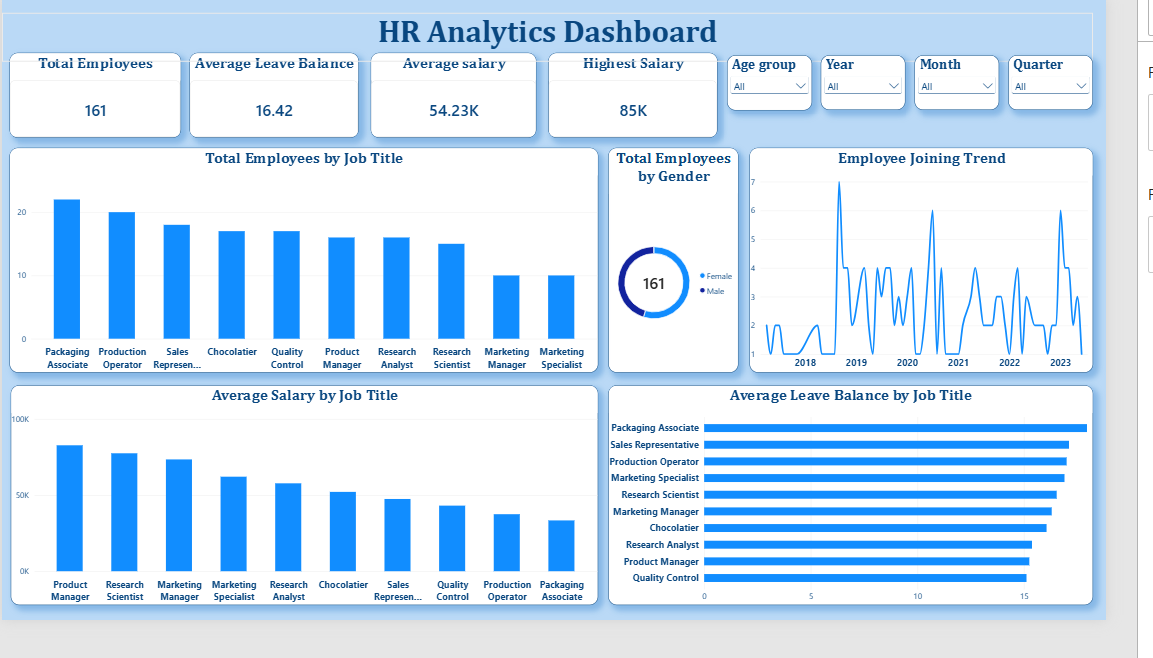

This screenshot's page, from the dashboard's own definition file:
{"tool":"powerbi","page":{"name":"Page 1","canvas":[1920,1080],"ordinal":0},"visuals":[{"type":"cardVisual","title":"Total Employees","fields":{"Data":["data.Total Employees"]},"box":[13,93.5,298,148],"z":0},{"type":"cardVisual","title":"Average Leave Balance","fields":{"Data":["data.Average Leave Balance"]},"box":[326.1,93.5,294,148],"z":1000},{"type":"cardVisual","title":"Average salary","fields":{"Data":["data.Average Salary"]},"box":[641.3,93.5,288,148],"z":2000},{"type":"cardVisual","title":"Highest Salary","fields":{"Data":["data.Highest Salary"]},"box":[950,93.5,294,148],"z":3000},{"type":"textbox","box":[0,14,1898,94],"z":4000},{"type":"donutChart","fields":{"Category":["data.Gender"],"Y":["data.Total Employees"]},"box":[1054.3,258.7,226.1,391.3],"z":5000},{"type":"clusteredColumnChart","title":"Total Employees by Job Title","fields":{"Category":["data.Job Title"],"Y":["data.Total Employees"]},"box":[13,258.7,1023.9,391.3],"z":6000},{"type":"slicer","title":"Age group","fields":{"Values":["data.Age"]},"box":[1260.9,97.8,148,114],"z":7000},{"type":"slicer","title":"Year","fields":{"Values":["data.Date of Join.Variation.Date Hierarchy.Year"]},"box":[1423.9,97.8,148,114],"z":8000},{"type":"slicer","title":"Quarter","fields":{"Values":["data.Date of Join.Variation.Date Hierarchy.Month"]},"box":[1750,98,148,114],"z":9000},{"type":"slicer","title":"Month","fields":{"Values":["data.Date of Join.Variation.Date Hierarchy.Quarter"]},"box":[1587,97.8,148,114],"z":10000},{"type":"clusteredColumnChart","fields":{"Category":["data.Job Title"],"Y":["data.Average Salary"]},"box":[15.2,671.7,1021.7,382.6],"z":11000},{"type":"lineChart","title":"Employee Joining Trend","fields":{"Category":["data.Date of Join.Variation.Date Hierarchy.Year","data.Date of Join.Variation.Date Hierarchy.Month"],"Y":["data.Total Employees"]},"box":[1300,258.7,597.8,391.3],"z":12000},{"type":"clusteredBarChart","fields":{"Category":["data.Job Title"],"Y":["data.Average Leave Balance"]},"box":[1054.3,671.7,843.5,382.6],"z":13000}]}

Visuals, with their boxes in screenshot pixels (x1, y1, x2, y2), scaled from the page's 1920x1080 canvas onto the 1153x658 screenshot:
"Total Employees" cardVisual: box(8, 57, 187, 147)
"Average Leave Balance" cardVisual: box(196, 57, 372, 147)
"Average salary" cardVisual: box(385, 57, 558, 147)
"Highest Salary" cardVisual: box(570, 57, 747, 147)
textbox: box(0, 9, 1140, 66)
donutChart - data.Gender x data.Total Employees: box(633, 158, 769, 396)
"Total Employees by Job Title" clusteredColumnChart: box(8, 158, 623, 396)
"Age group" slicer: box(757, 60, 846, 129)
"Year" slicer: box(855, 60, 944, 129)
"Quarter" slicer: box(1051, 60, 1140, 129)
"Month" slicer: box(953, 60, 1042, 129)
clusteredColumnChart - data.Job Title x data.Average Salary: box(9, 409, 623, 642)
"Employee Joining Trend" lineChart: box(781, 158, 1140, 396)
clusteredBarChart - data.Job Title x data.Average Leave Balance: box(633, 409, 1140, 642)
